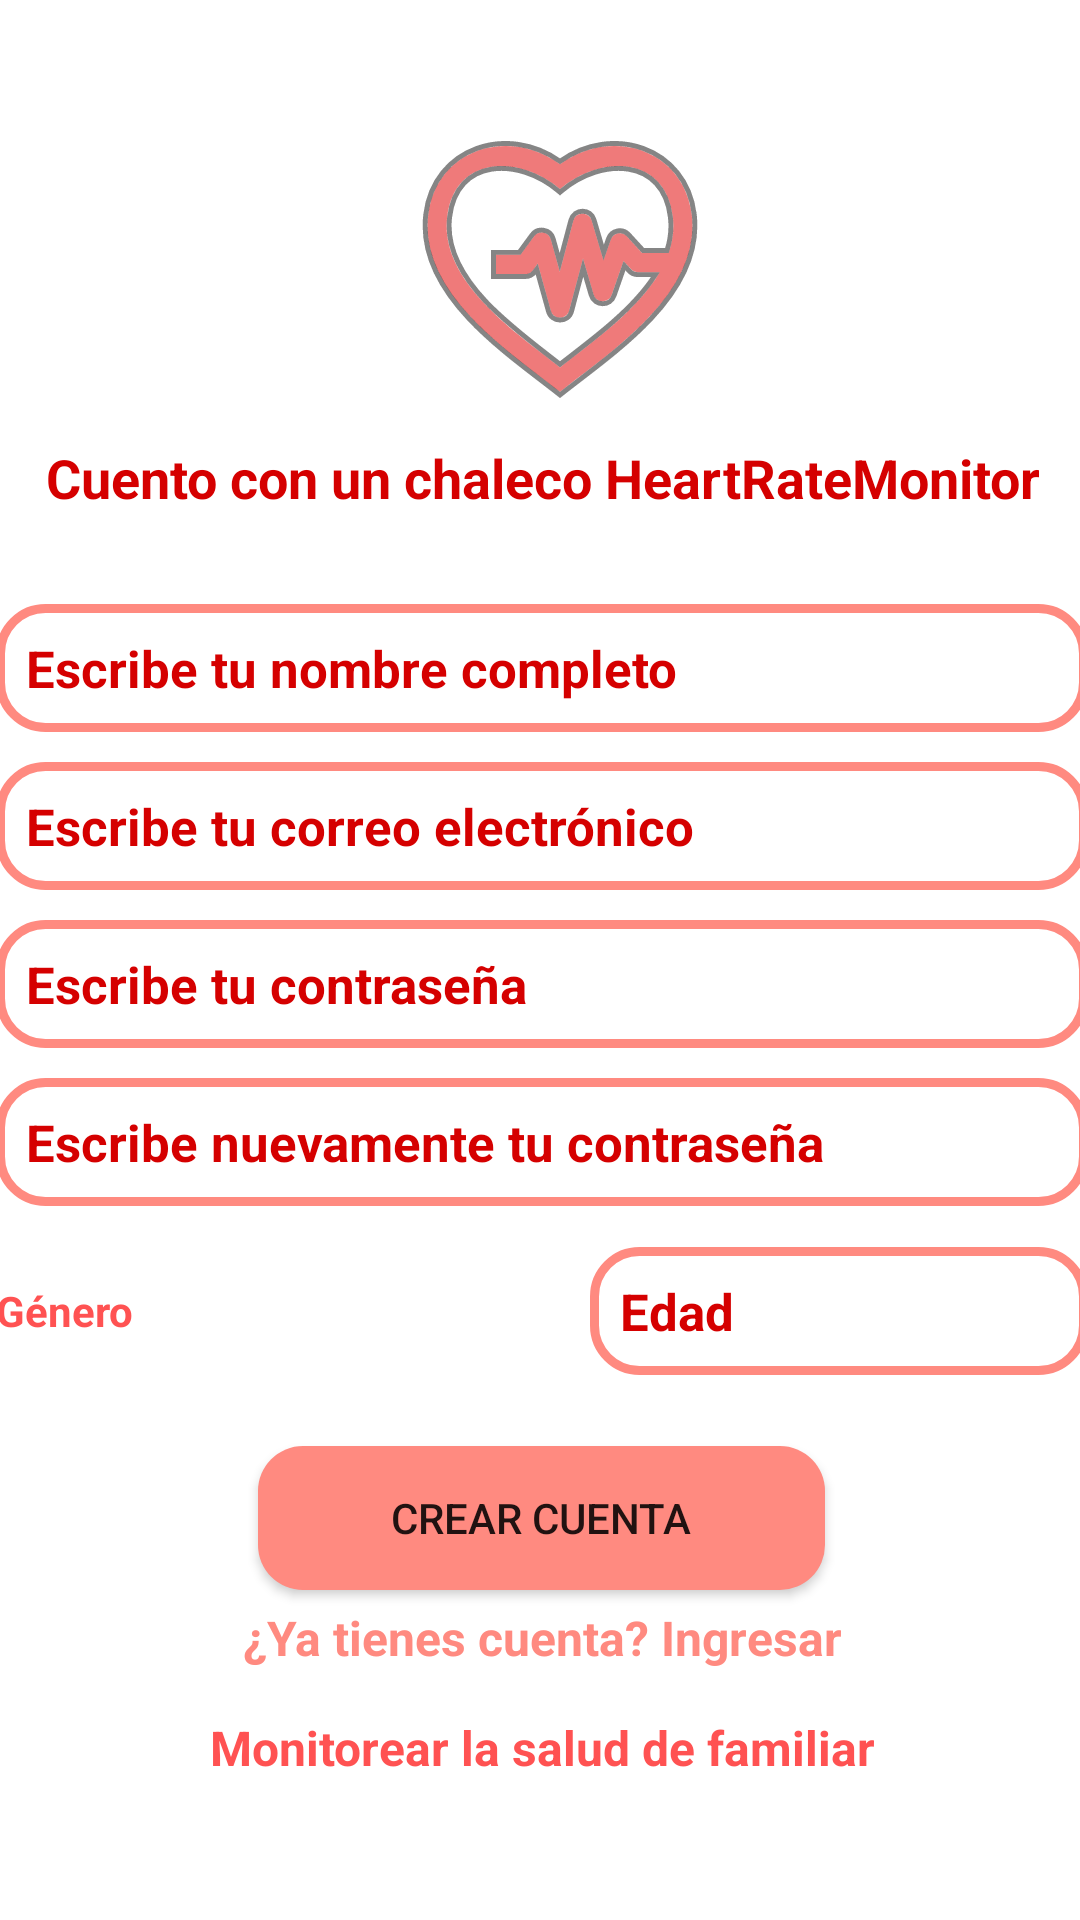

Where icons sit on this 1080 × 1920 app screen, as (x1, y1, x2, y2):
corazon: (422, 141, 698, 398)
